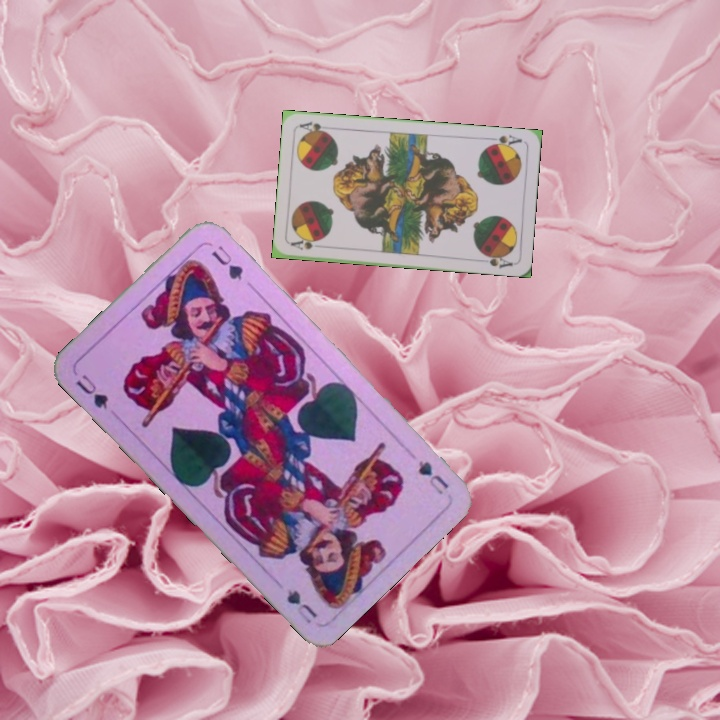GU: (71, 370, 111, 412), (413, 456, 452, 498)
SA: (484, 131, 524, 151), (287, 236, 322, 253)
